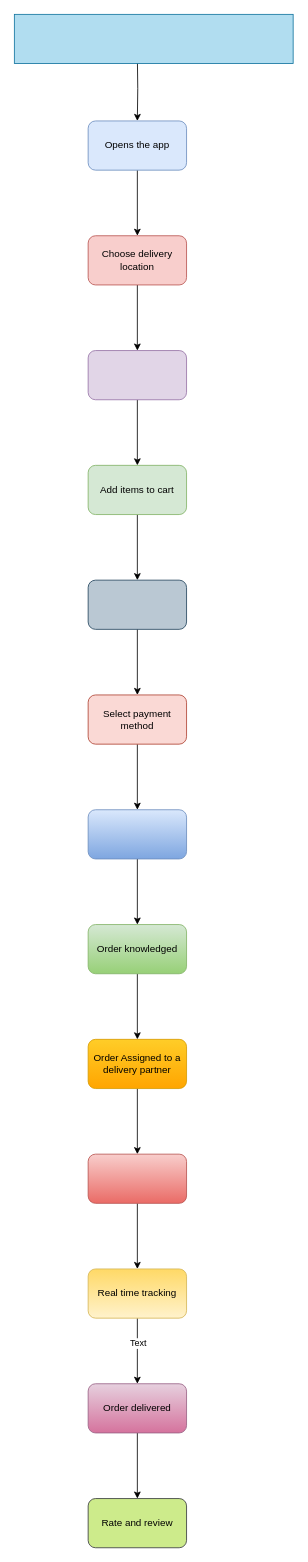
This 308x1562 diagram has some shape labels left out. The shapes that lost their labels are listed below. From the top down, each one's box as (x1, y1, x2, y2) in pixels, then its label:
(14, 14, 293, 64): Food Delivery
(87, 350, 187, 400): Browse restaurants & menu
(87, 579, 187, 629): Review cart &checkout
(87, 809, 187, 859): Confirm order &pay
(87, 1153, 187, 1203): Delivery partner picks up the food
